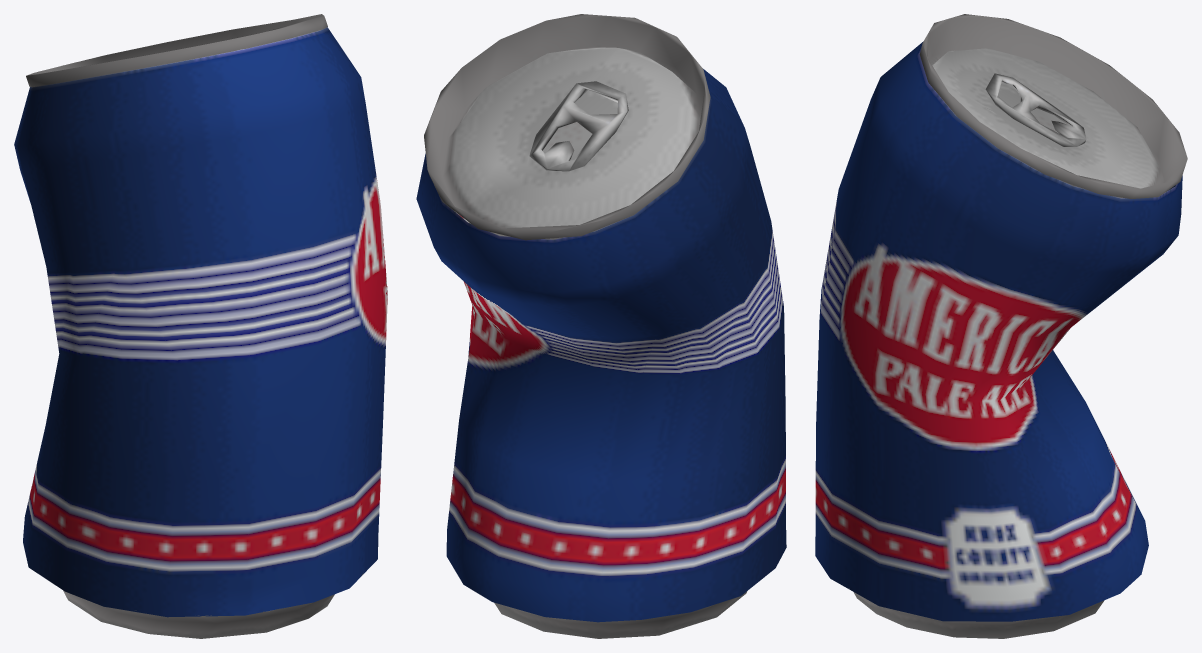
File: EmptyBeerCanSmall.fbx
The picture shows the model from 3 angles, left to right: view 1: azimuth 30°, elevation 25°; view 2: azimuth 150°, elevation 25°; view 3: azimuth 270°, elevation 25°; orthographic projection. The views are drawn at different scales.
Parts seen in each view (by area): view 1: can.002; view 2: can.002; view 3: can.002.
Part boxes in pixels (x1,y1,x2,y2): can.002: (14,14,387,638); can.002: (416,14,786,638); can.002: (815,14,1187,638).
Size of the model in its own units: 0.1517 by 0.2601 by 0.1606.
